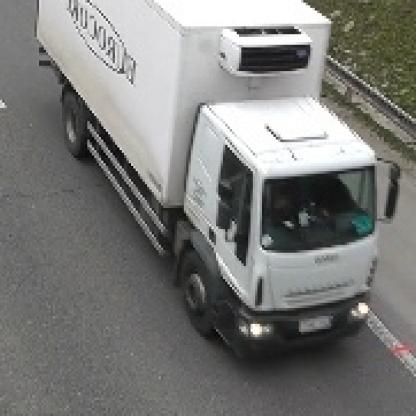truck: (33, 1, 400, 364)
